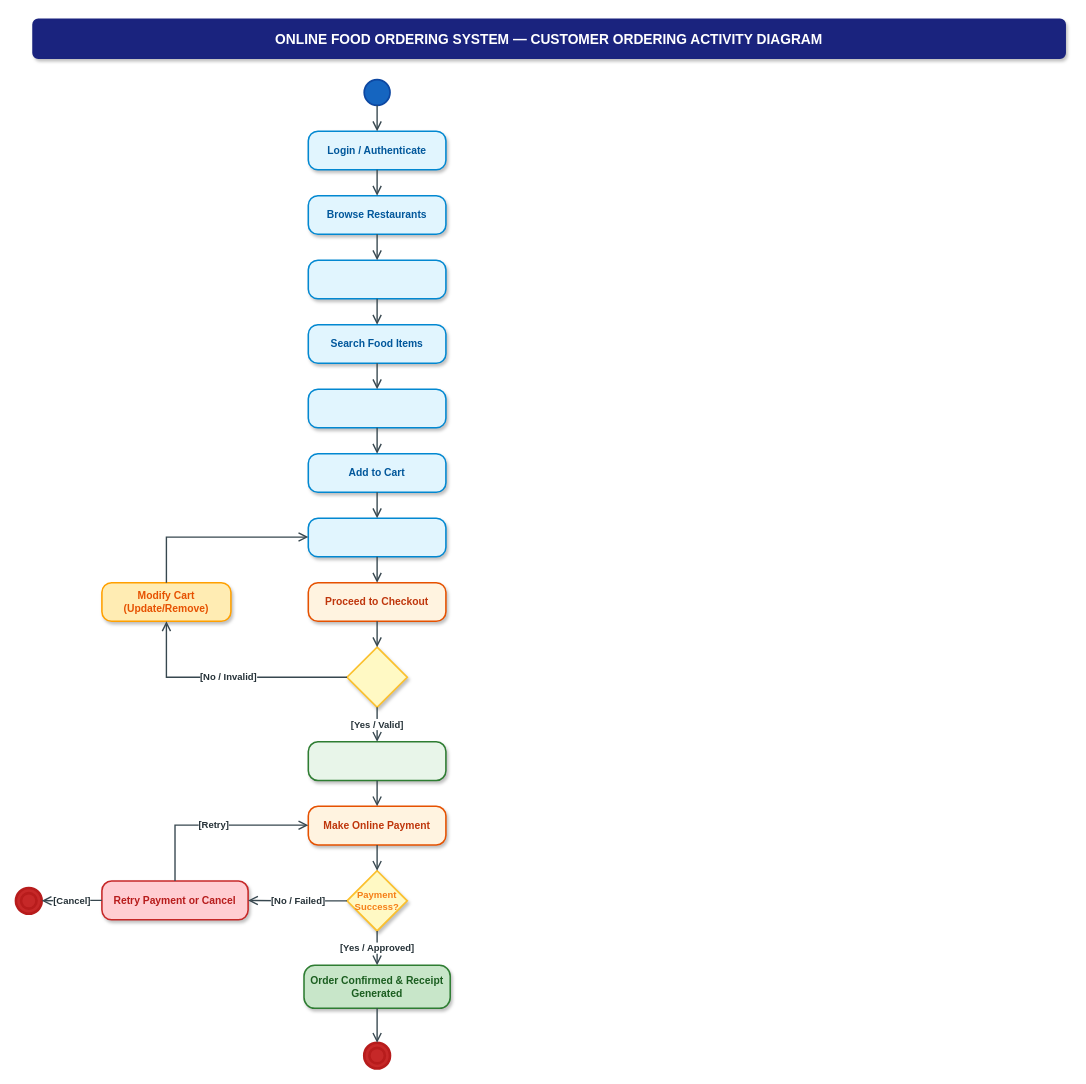
This 1086x1084 diagram has some shape labels left out. The shapes that lost their labels are listed below. From the top down, each one's centre as x and y in pixels, then its label:
point (377, 280): View Restaurant Menu
point (377, 409): Select Food Item
point (377, 538): View Cart Contents
point (377, 678): Cart Valid?
point (377, 762): Place Order
